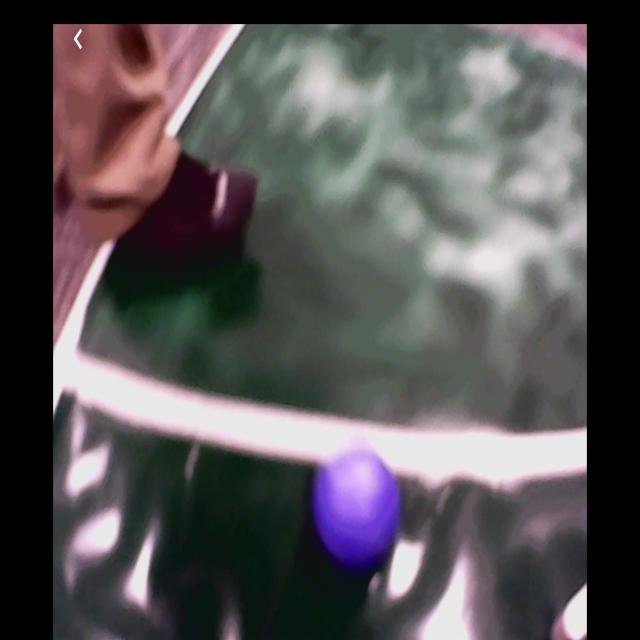ball: (316, 448, 396, 566)
